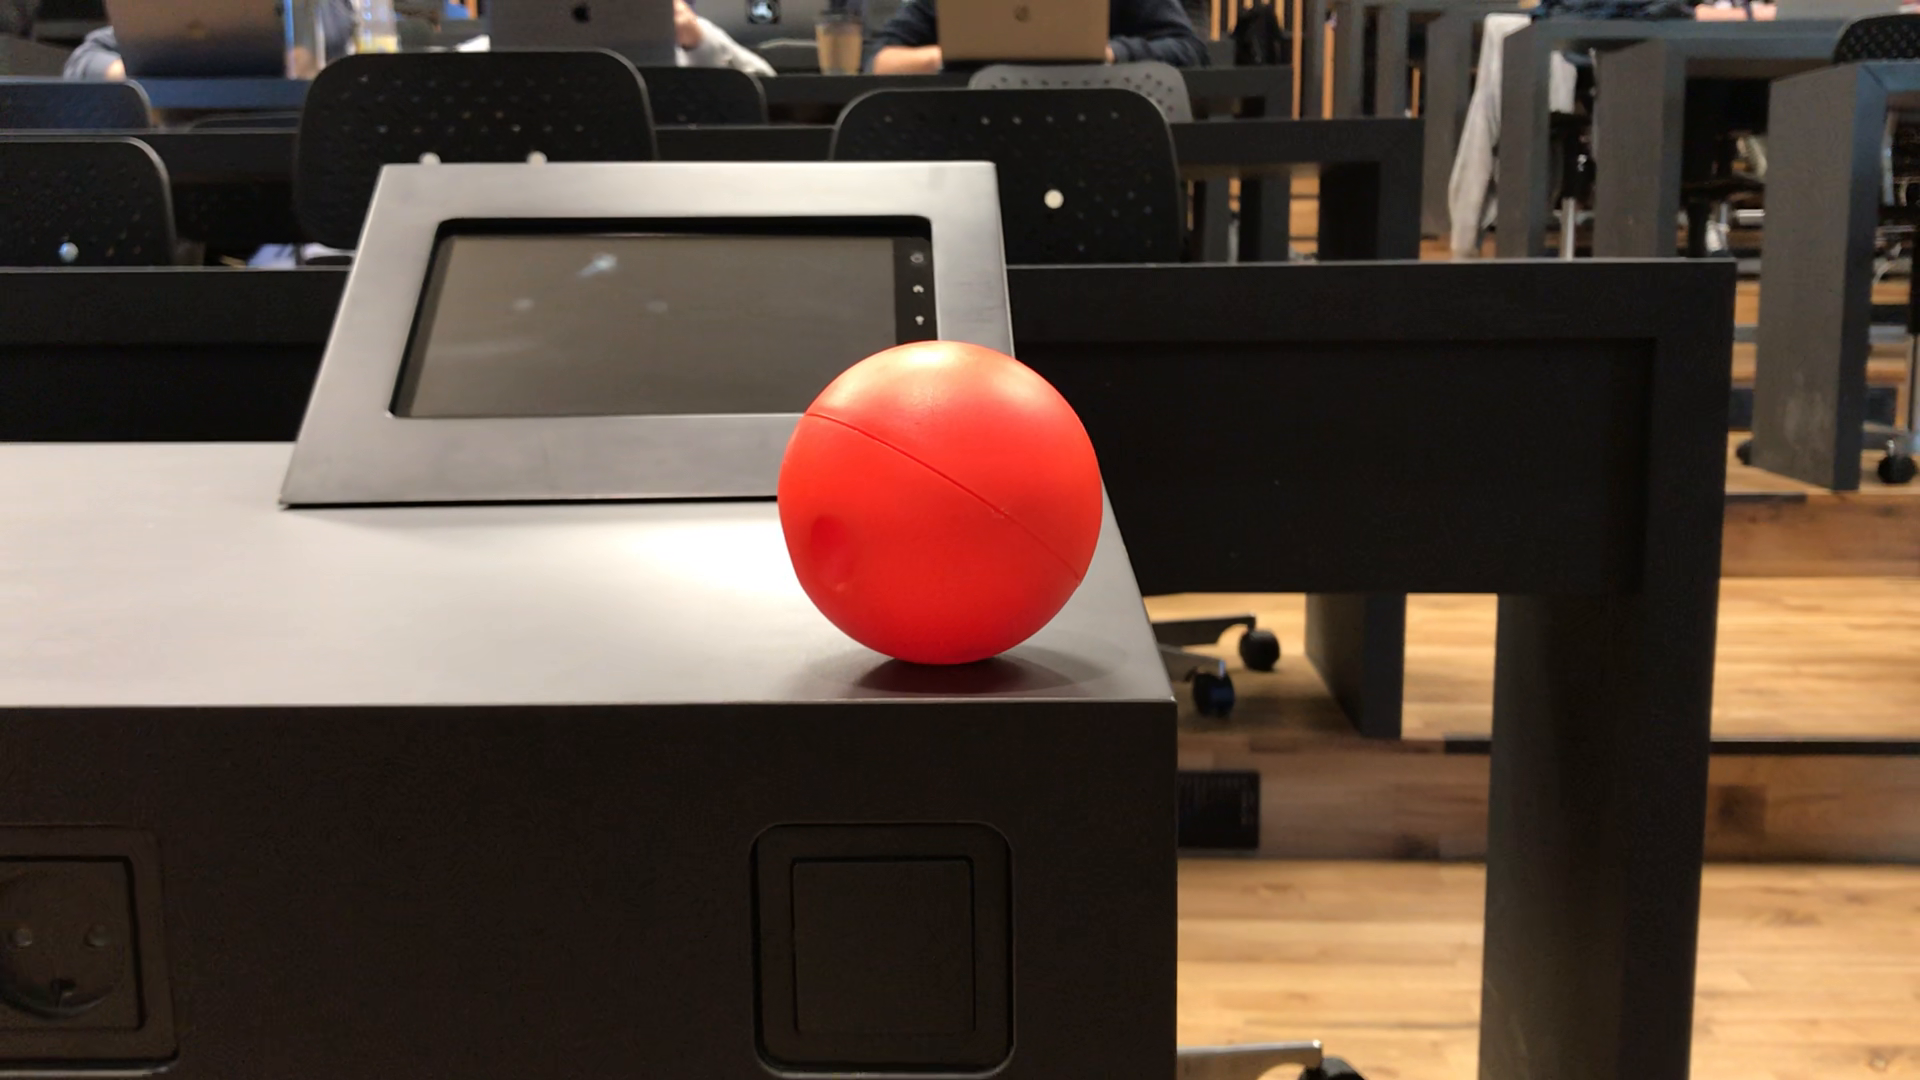Ball: (781, 334, 1120, 669)
